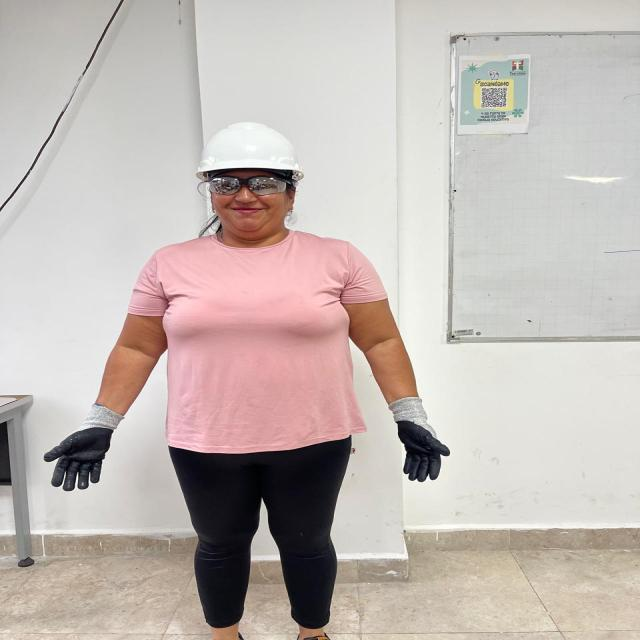gloves: (43, 404, 124, 491), (389, 397, 450, 482)
helmet: (197, 122, 303, 181)
protective_glasses: (200, 176, 297, 196)
